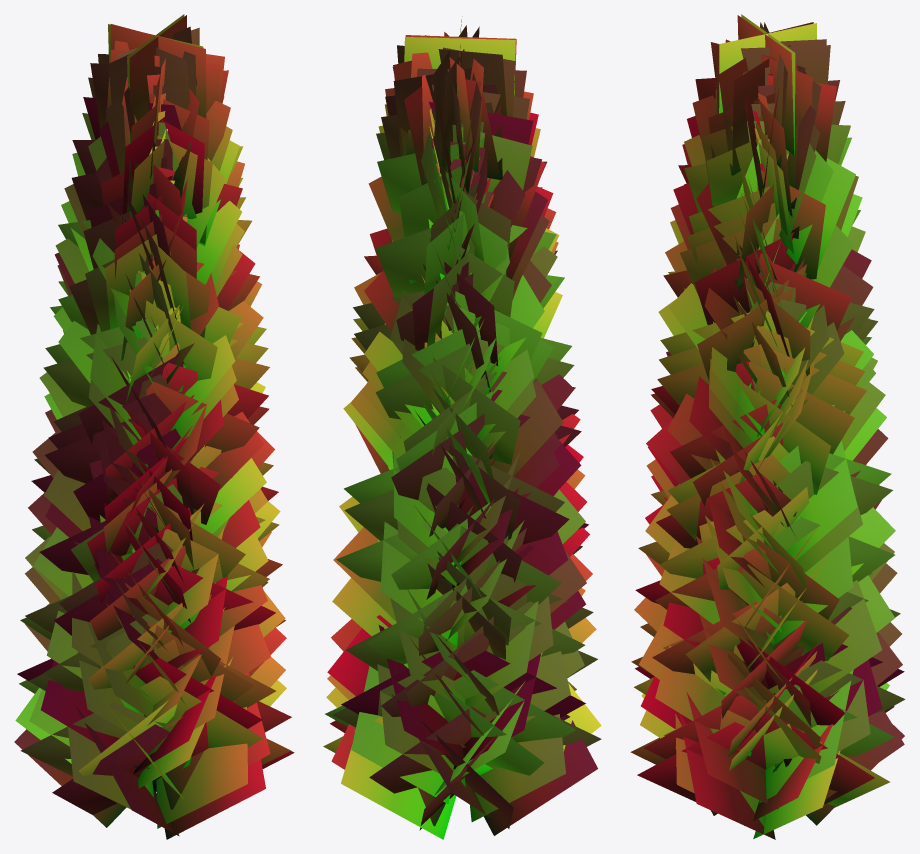
The model's file is URP_P4_Tree_8_LOD_1.fbx.
The picture shows the model from 3 angles, left to right: view 1: azimuth 30°, elevation 25°; view 2: azimuth 150°, elevation 25°; view 3: azimuth 270°, elevation 25°; orthographic projection.
Visible parts, largest first — view 1: Tree_8_LOD_1; view 2: Tree_8_LOD_1; view 3: Tree_8_LOD_1.
Boxes of the visible parts, box(x1,y1,x2,y2) form: Tree_8_LOD_1: box(14, 14, 294, 839); Tree_8_LOD_1: box(323, 16, 601, 839); Tree_8_LOD_1: box(630, 14, 905, 839).
Size of the model in its own units: 210 by 662 by 210.
